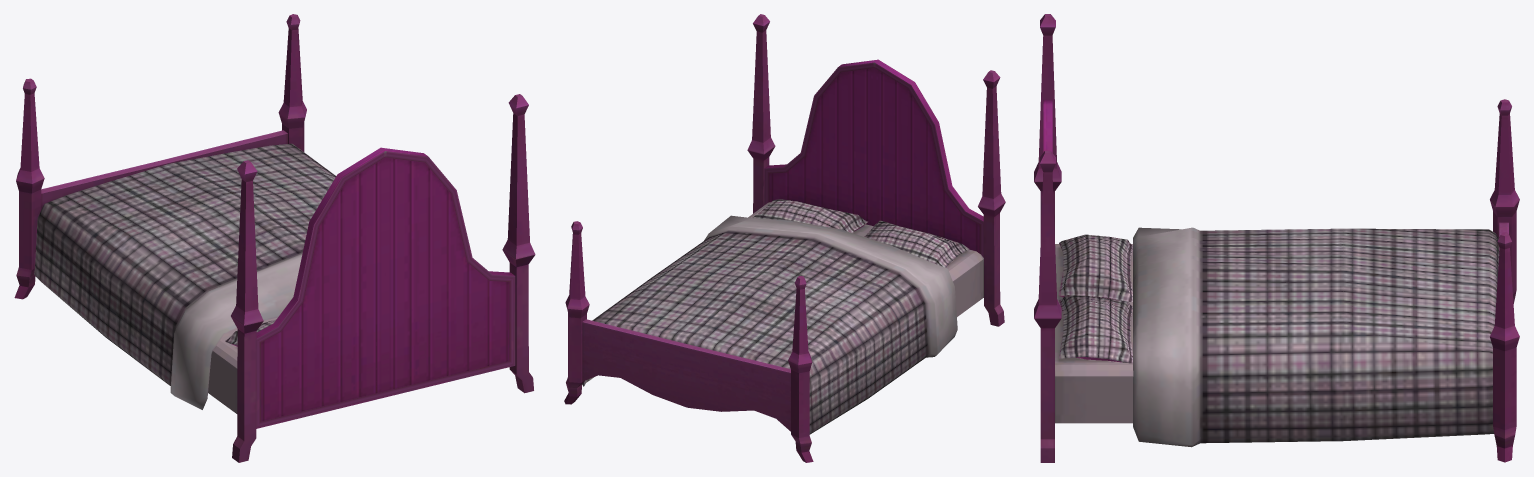
Rendered from furni_0200042_03.FBX.
The picture shows the model from 3 angles, left to right: view 1: azimuth 30°, elevation 25°; view 2: azimuth 150°, elevation 25°; view 3: azimuth 270°, elevation 25°; orthographic projection. The views are drawn at different scales.
Parts seen in each view (by area): view 1: furni_0200042_03; view 2: furni_0200042_03; view 3: furni_0200042_03.
Boxes of the visible parts, x1=… form: furni_0200042_03: x1=14, y1=14, x2=535, y2=462; furni_0200042_03: x1=564, y1=14, x2=1005, y2=462; furni_0200042_03: x1=1034, y1=14, x2=1519, y2=462.
Size of the model in its own units: 170 by 163 by 236.
Materials: 1 (1 with a texture image).
